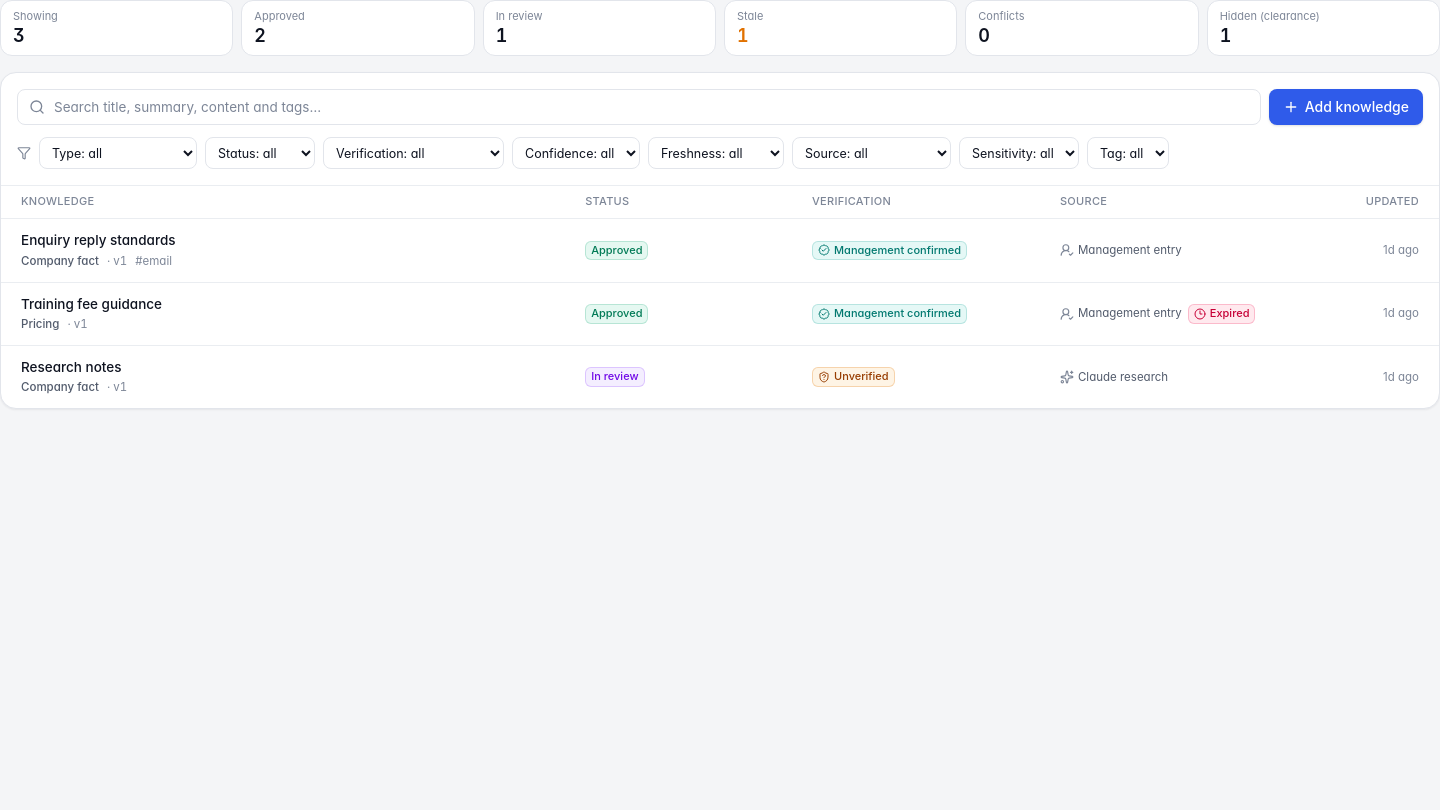
Knowledge Library › adds knowledge as a draft
Click the button "Add knowledge" at (1346, 107), box [1269,89,1423,125]
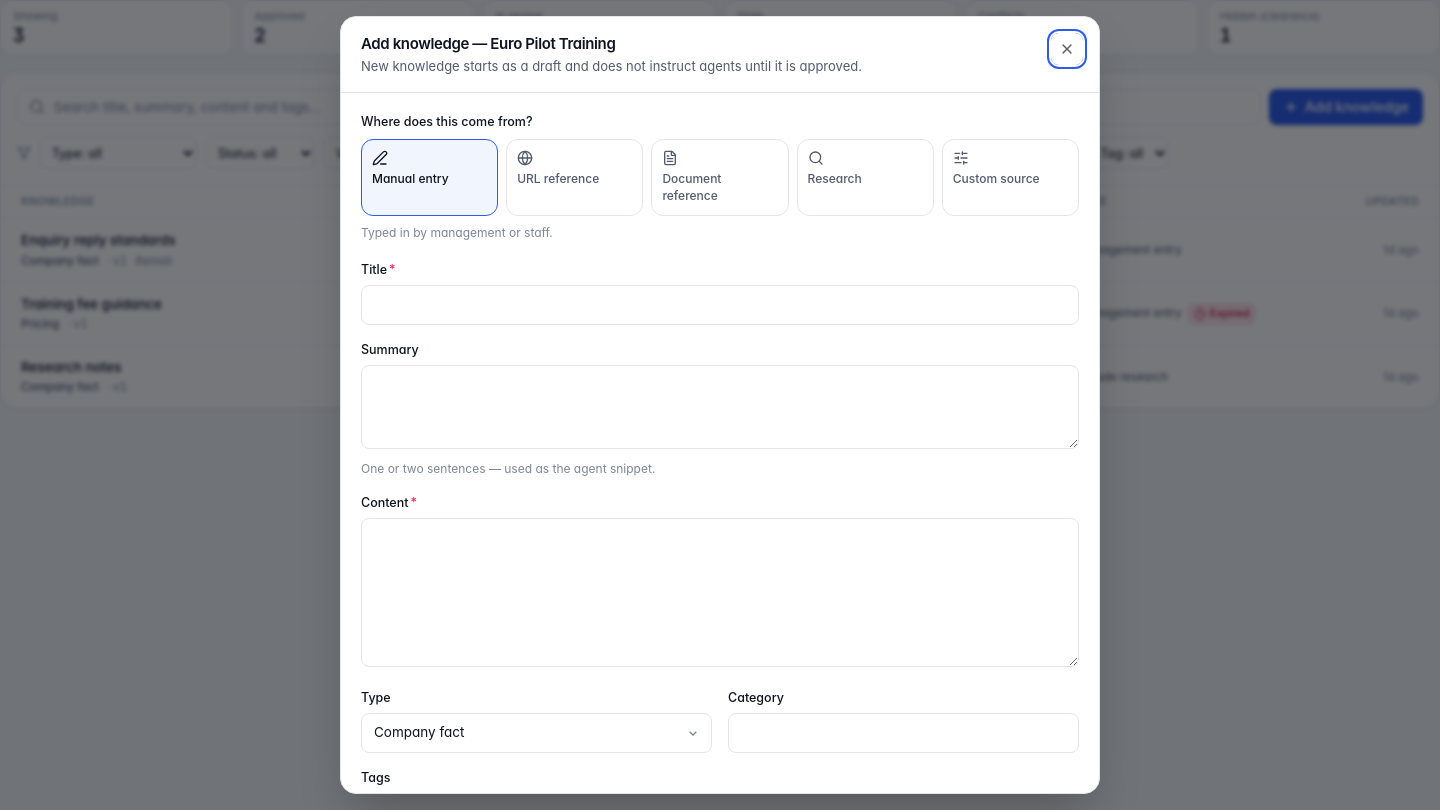
Type "Refund policy" into the field labelled "Title*" at (720, 305), box [361,285,1079,325]
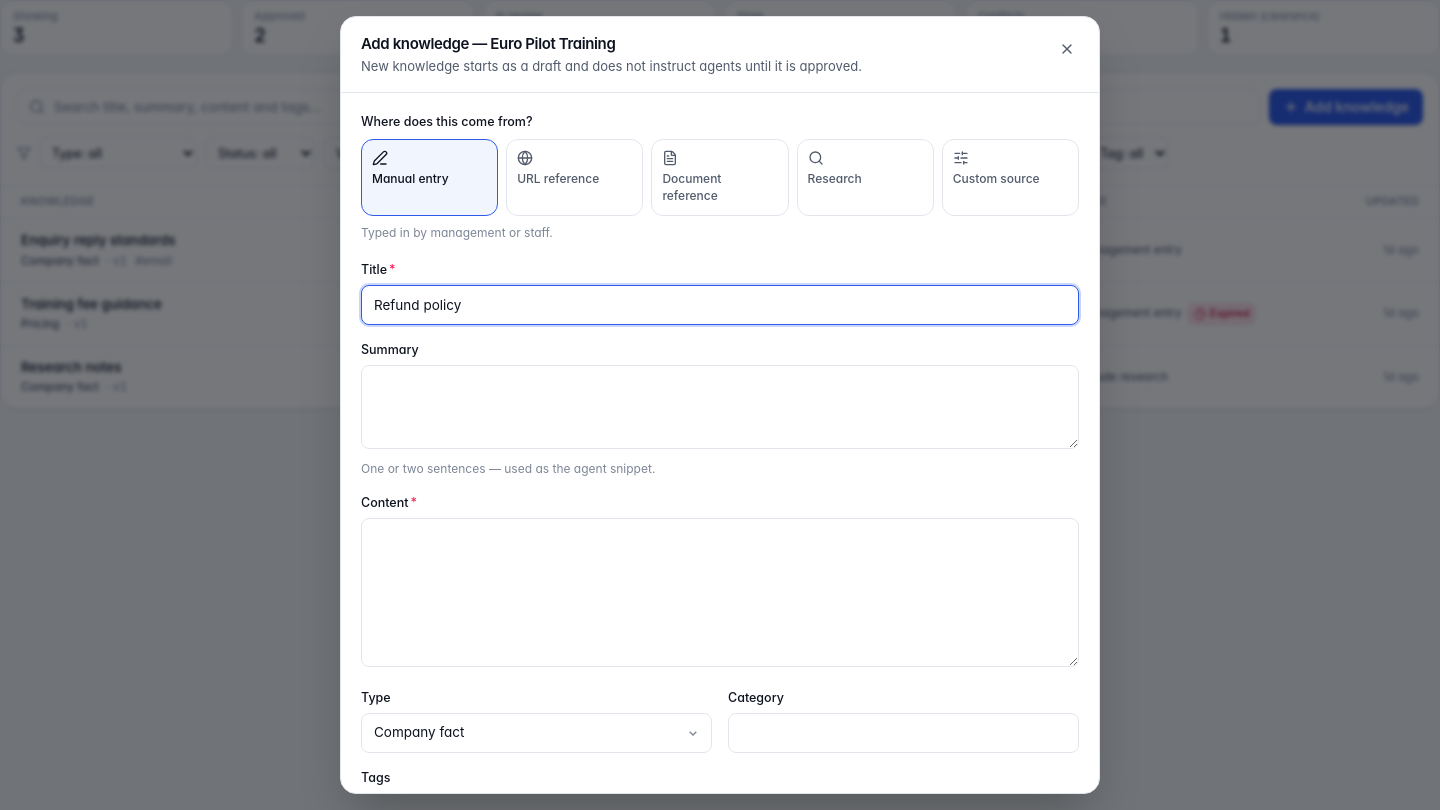
Type "Refunds are decided by management." into the text box labelled "Content*" at (720, 593), box [361,518,1079,667]
(page scrolled)
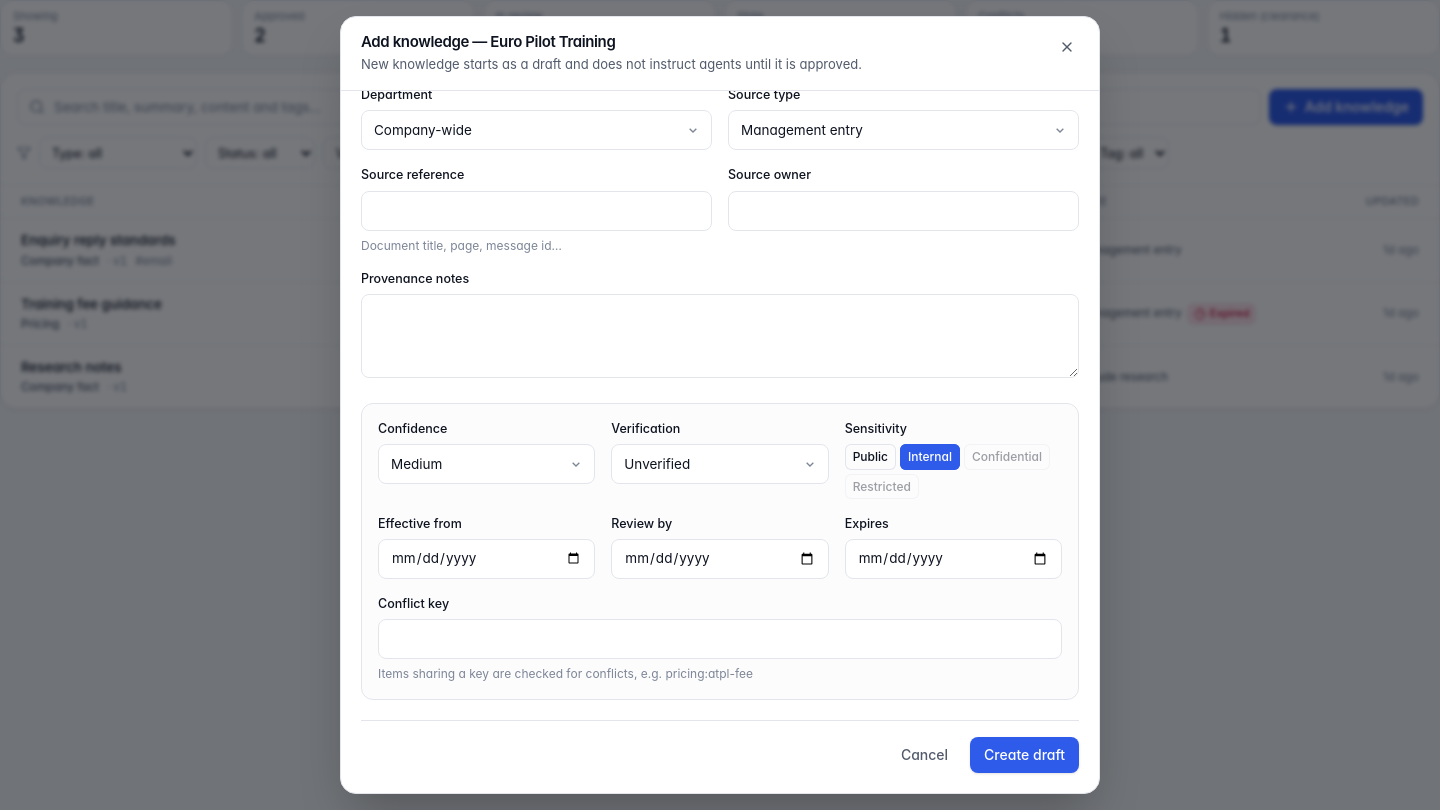
Click the button "Create draft" at (1025, 755), box [970,737,1079,773]
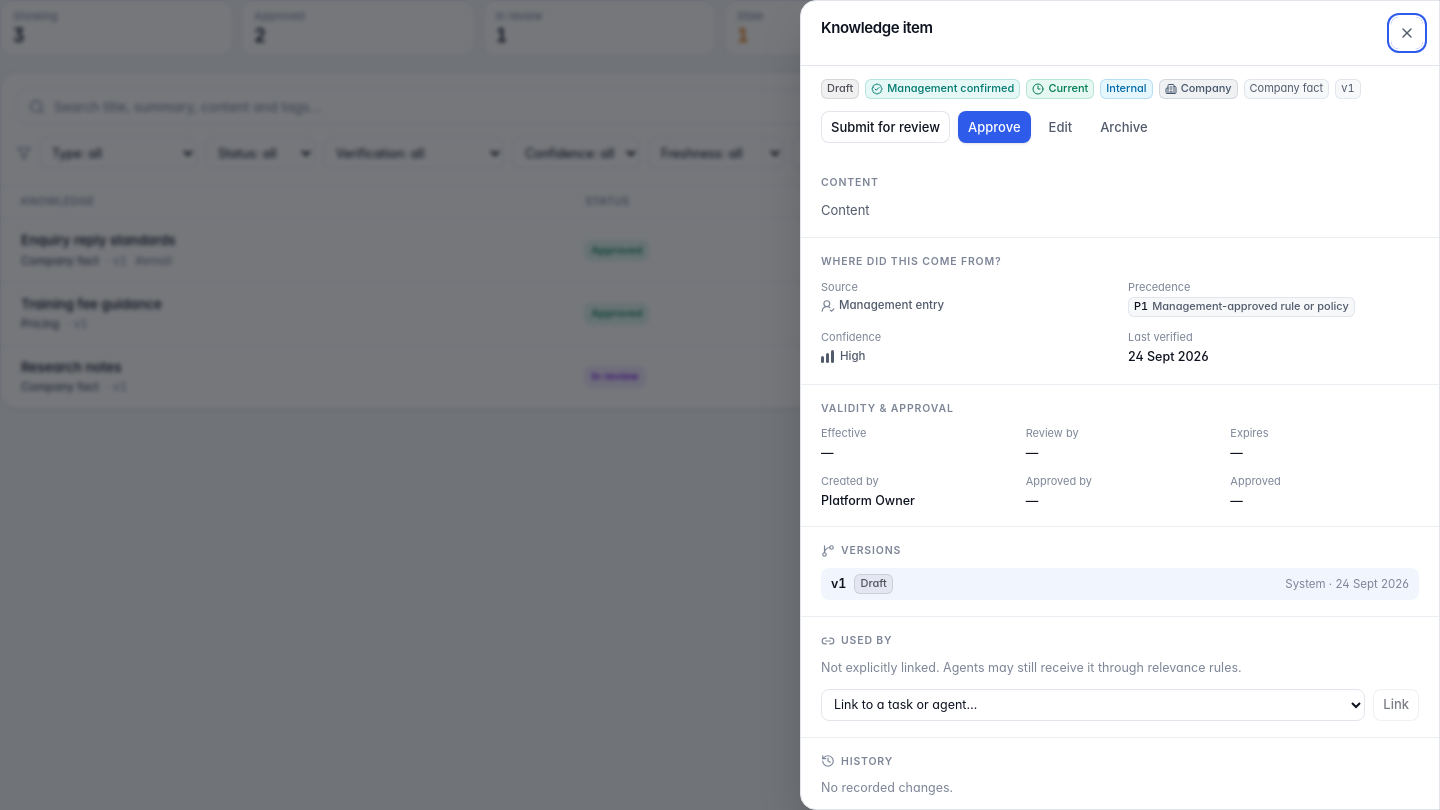
Result: the element with test id "knowledge-drawer" is shown at [801,66,1439,809]
